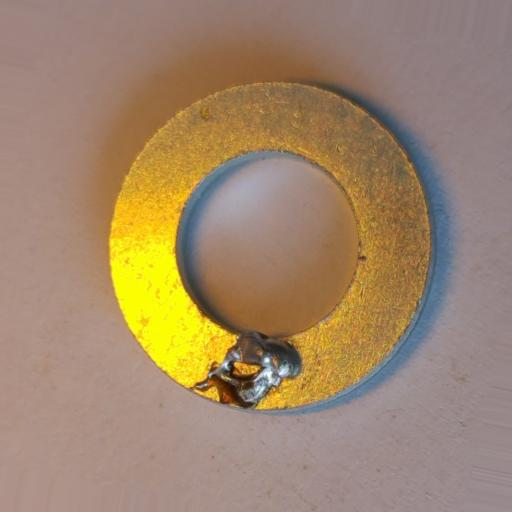excess_material: (192, 329, 302, 408)
